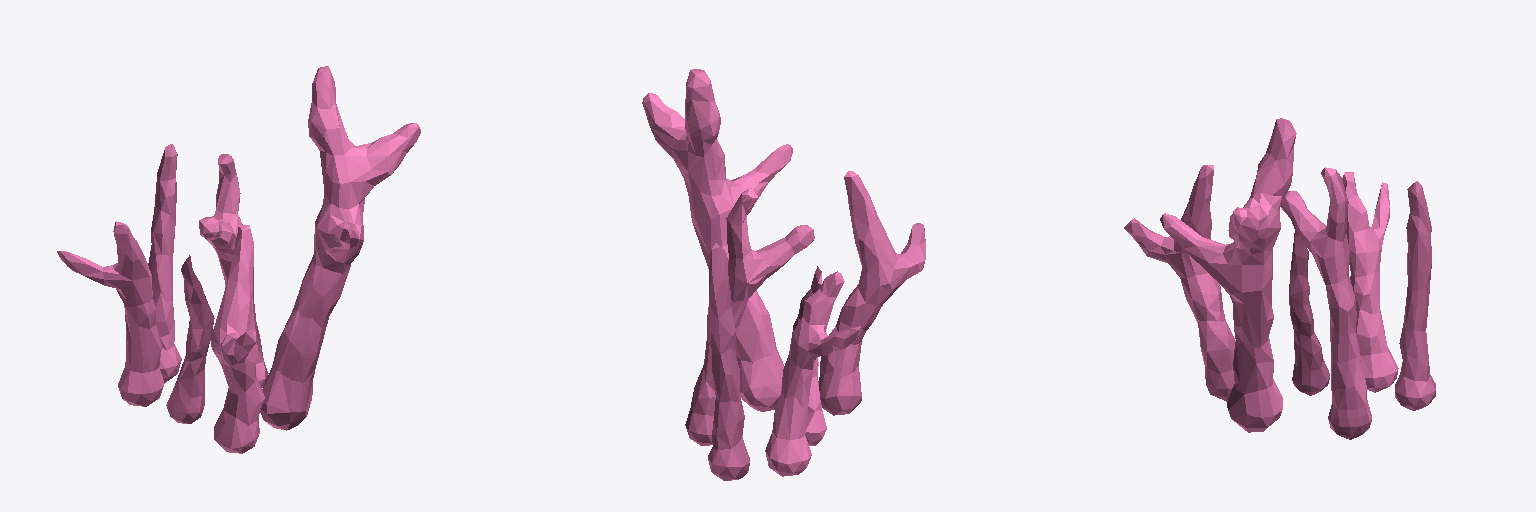
The picture shows the model from 3 angles: view 1: azimuth 30°, elevation 25°; view 2: azimuth 150°, elevation 25°; view 3: azimuth 270°, elevation 25°; orthographic projection.
Visible parts, largest first — view 1: Coral.003_CoralMesh.004; view 2: Coral.003_CoralMesh.004; view 3: Coral.003_CoralMesh.004.
Boxes of the visible parts, <box> form: Coral.003_CoralMesh.004: <box>57,66,420,453</box>; Coral.003_CoralMesh.004: <box>642,69,925,480</box>; Coral.003_CoralMesh.004: <box>1124,118,1435,439</box>.
Size of the model in its own units: 0.3565 by 0.3969 by 0.3318.
1 materials, 1 textured.